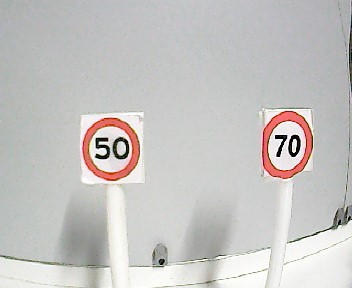50-bord: (81, 117, 142, 181)
70-bord: (263, 111, 313, 179)
